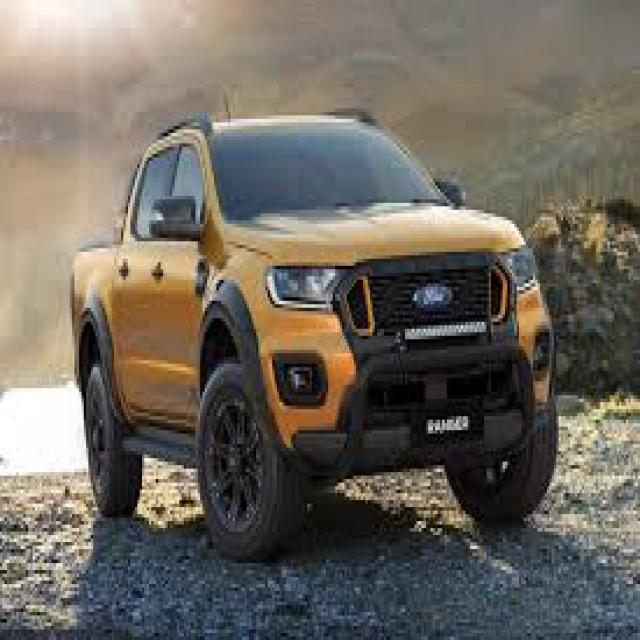Pickup Trucks: (67, 112, 561, 559)
